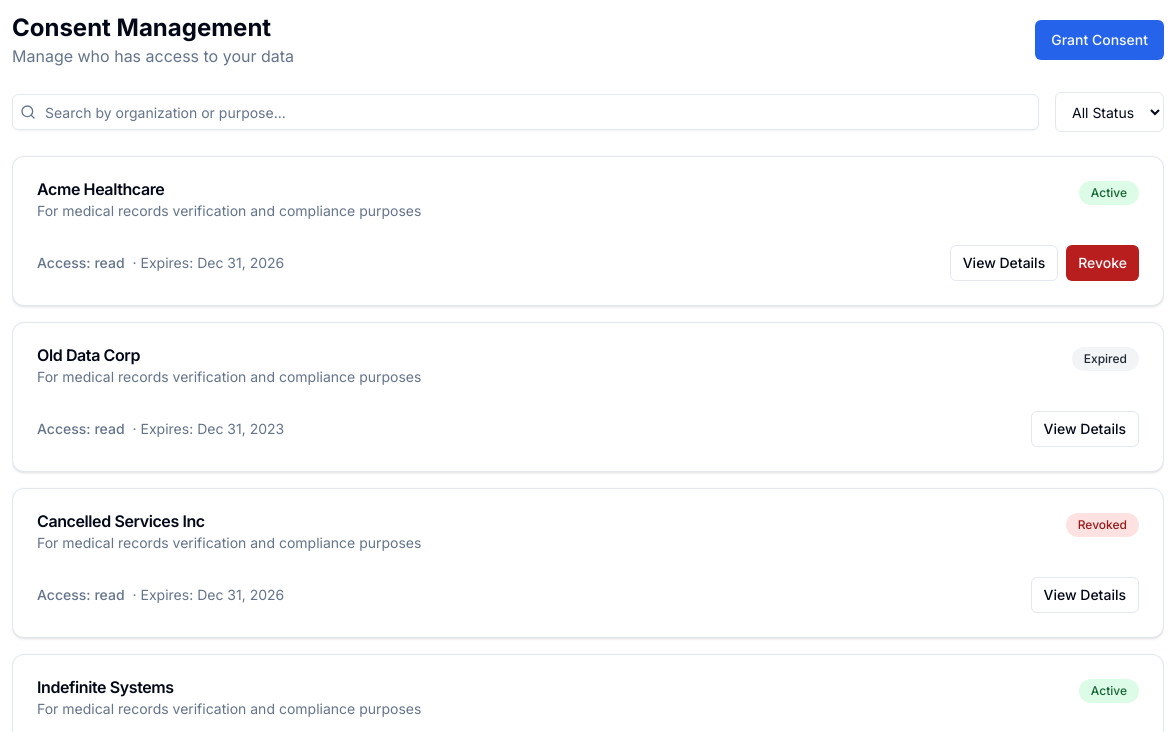
Scenario: ConsentList › Search & Filter › filters consents by organization name
Type "Acme" into the field with placeholder "Search by organization or purpose...". click: (526, 112)
box: [12,94,1039,130]
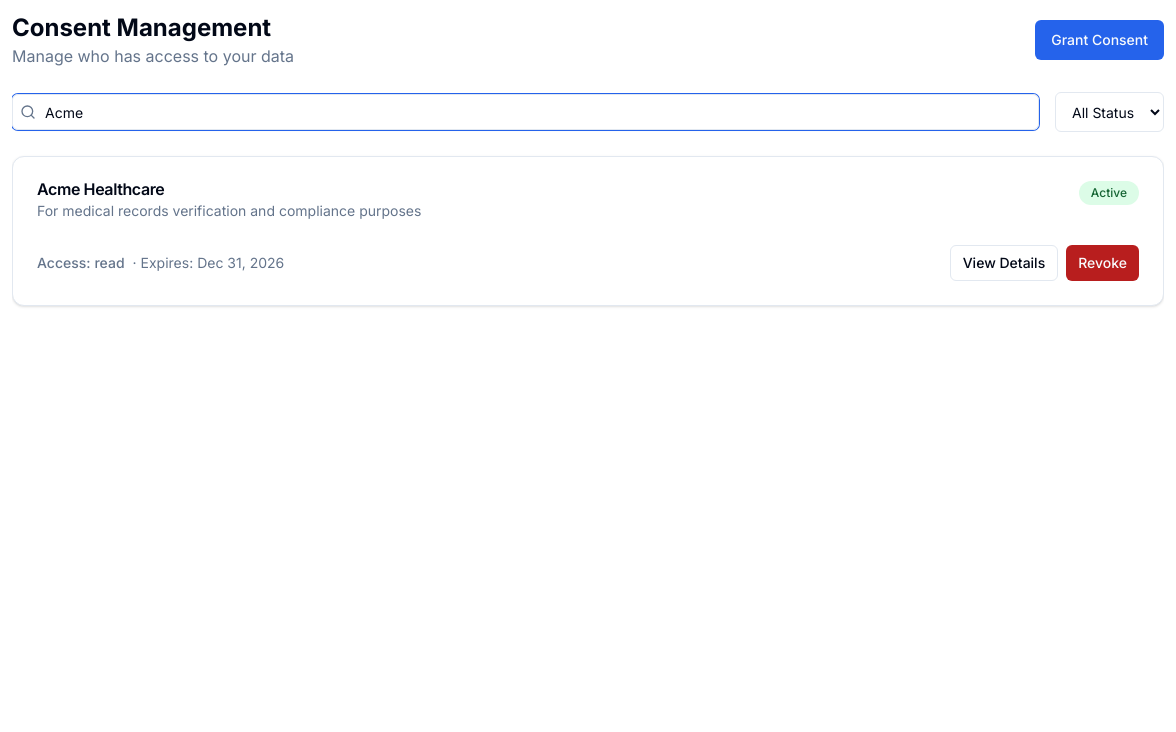
Expected: the heading "Acme Healthcare" is shown, [37,179,164,199]
Now the heading "Old Data Corp" is gone
Now the heading "Cancelled Services Inc" is gone
